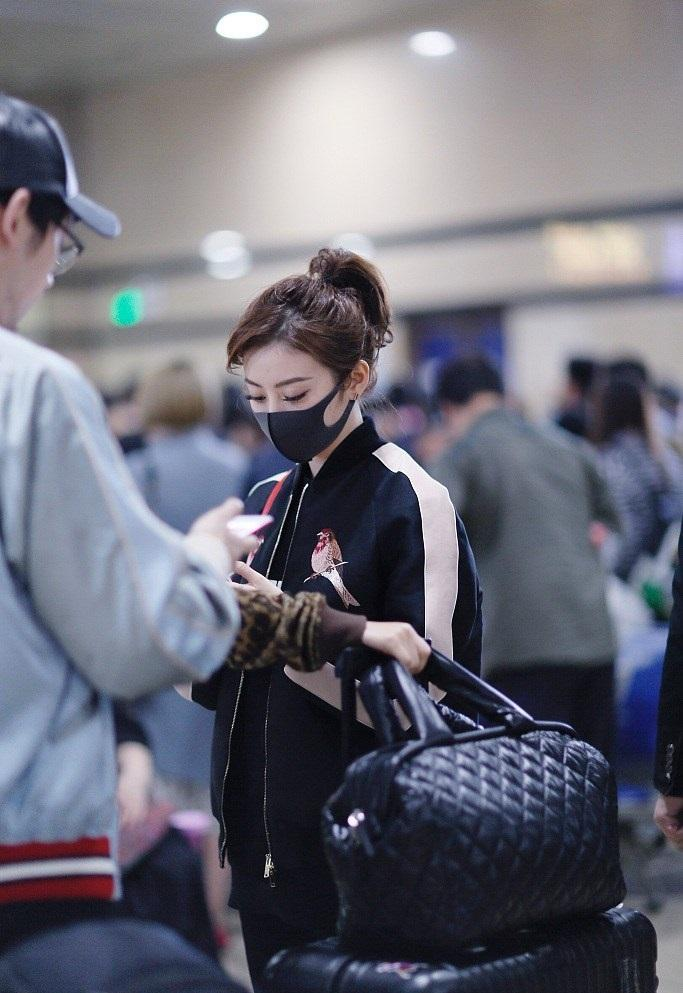,mask: (230, 382, 361, 463)
